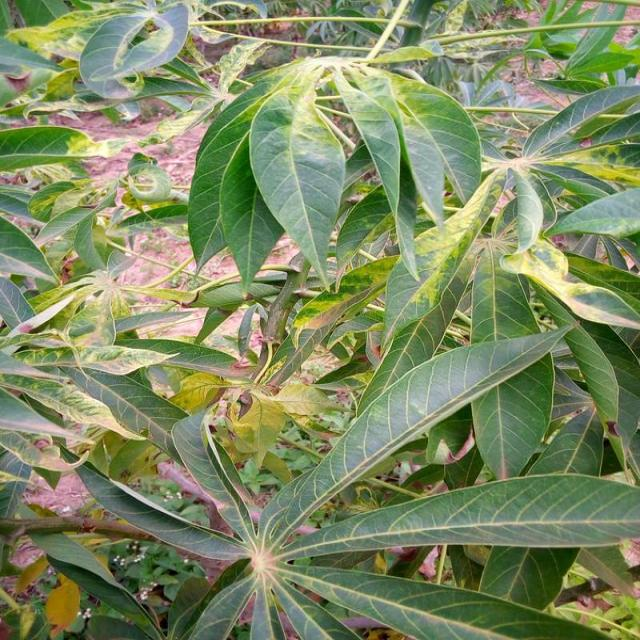cassava leaf: (1, 1, 638, 637), (257, 319, 577, 547)
